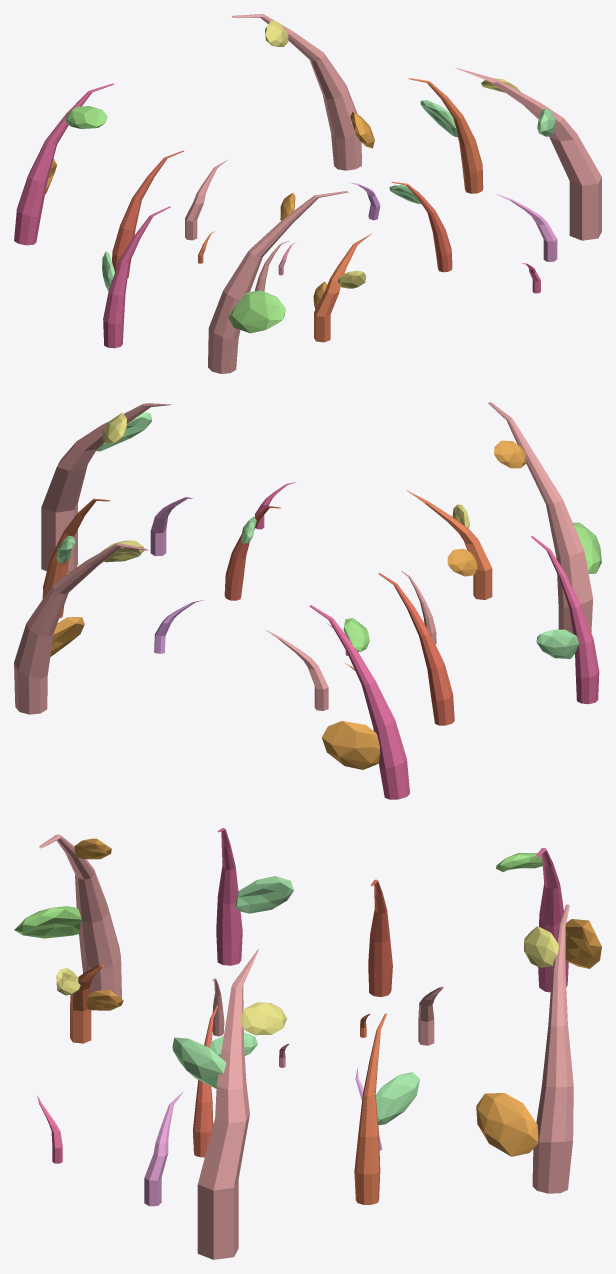
File: tree1.gltf
3 renders of one model, top to bottom at view 1: azimuth 30°, elevation 25°; view 2: azimuth 150°, elevation 25°; view 3: azimuth 270°, elevation 25°, orthographic. The views are drawn at different scales.
Parts seen in each view (by area): view 1: Circle.003, Circle.002, Circle.005, Circle.012, Circle.006, Icosphere.003, Circle.016, Circle.009, Circle.011, Circle.018, Circle.004, Circle.014 (+4 smaller); view 2: Circle.005, Circle.002, Circle.003, Circle.012, Circle.006, Circle.011, Icosphere.004, Circle.009, Circle.018, Circle.016, Icosphere.007, Circle.014 (+9 smaller); view 3: Circle.003, Circle.005, Circle.002, Circle.016, Icosphere.009, Circle.006, Circle.011, Circle.012, Icosphere.003, Icosphere, Icosphere.007, Icosphere.010 (+10 smaller).
Boxes of the visible parts, x1,y1,x2,y2 form: Circle.003: (455,67,601,240); Circle.002: (208,191,348,373); Circle.005: (232,14,361,170); Circle.012: (14,83,114,245); Circle.006: (103,206,170,348); Icosphere.003: (228,290,285,333); Circle.016: (408,78,483,193); Circle.009: (314,233,371,342); Circle.011: (112,150,184,277); Circle.018: (391,181,452,272); Circle.004: (496,194,557,261); Circle.014: (185,160,227,240); Circle.005: (14,543,148,714); Circle.002: (488,402,593,633); Circle.003: (41,403,171,573); Circle.012: (309,605,409,799); Circle.006: (531,536,599,704); Circle.011: (378,573,454,725); Icosphere.004: (321,721,379,769); Circle.009: (407,490,492,599); Circle.018: (224,506,281,600); Circle.016: (42,498,110,618); Icosphere.007: (536,629,578,658); Circle.014: (265,629,328,710); Circle.003: (197,949,258,1259); Circle.005: (532,904,573,1193); Circle.002: (39,834,121,998); Circle.016: (354,1013,386,1204); Icosphere.009: (476,1093,538,1156); Circle.006: (216,828,242,965); Circle.011: (368,879,392,996); Circle.012: (535,848,568,992); Icosphere.003: (14,906,81,938); Icosphere: (172,1037,226,1088); Icosphere.007: (235,876,293,913); Icosphere.010: (376,1072,419,1125).
Bounding box in the file's own units: 130 × 46.54 × 106.
